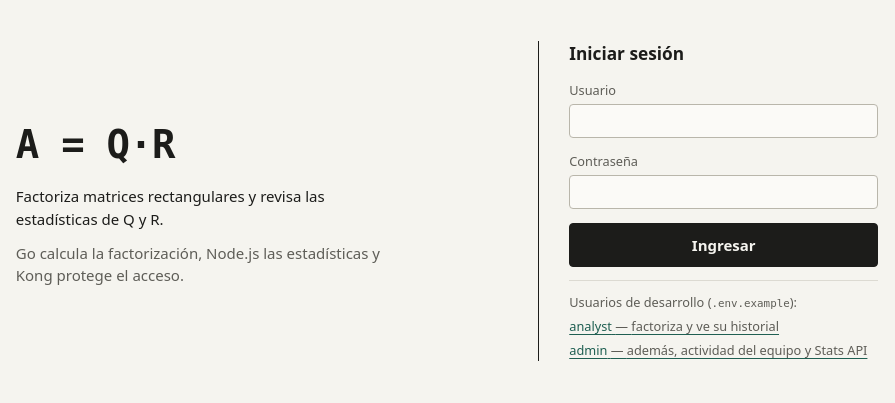
Test: App › muestra el error del login
The image size is (895, 403).
Type "analyst" into the field labelled "Usuario" at coordinates (724, 121), box [569,104,878,138]
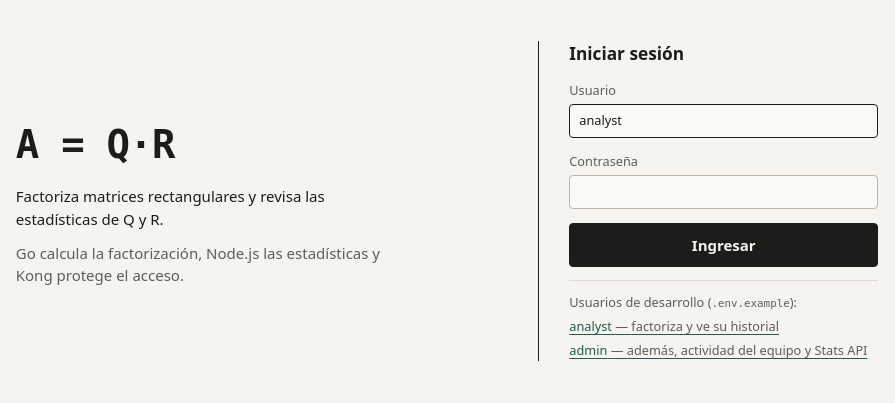
Type "incorrecta" into the password field labelled "Contraseña" at coordinates (724, 192), box [569,175,878,209]
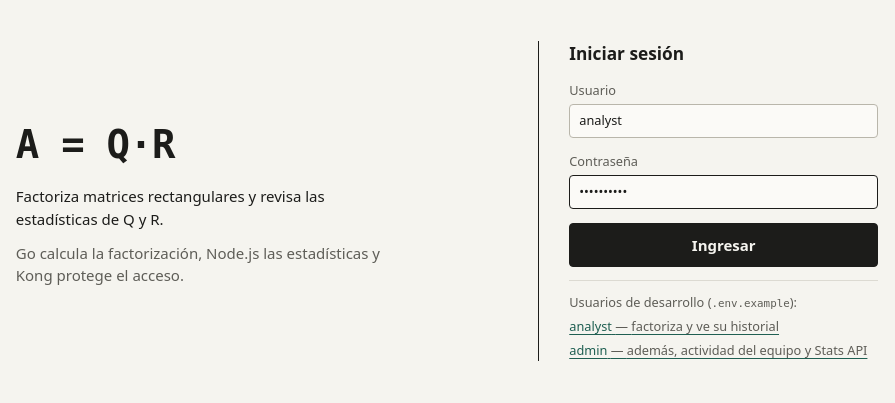
Click the button "Ingresar" at coordinates (724, 245), box [569,223,878,267]
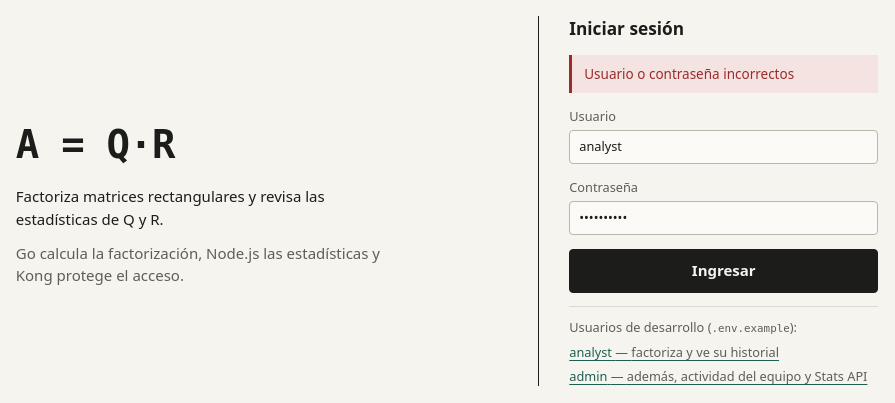
Check: the message reads "Usuario o contraseña incorrectos", box [584,65,794,83]
